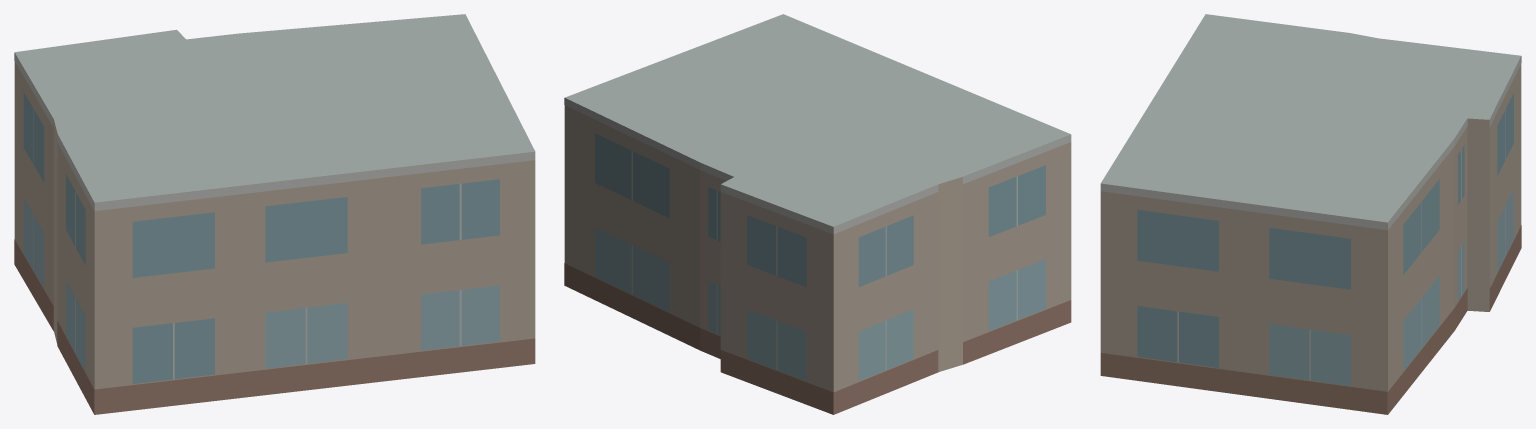
The model's file is survey-upis-32643353.glb.
3 renders of one model, left to right at view 1: azimuth 30°, elevation 25°; view 2: azimuth 150°, elevation 25°; view 3: azimuth 270°, elevation 25°, orthographic. The views are drawn at different scales.
Parts seen in each view (by area): view 1: survey-upis-32643353.tmp; view 2: survey-upis-32643353.tmp; view 3: survey-upis-32643353.tmp.
Boxes of the visible parts, x1,y1,x2,y2 form: survey-upis-32643353.tmp: (14,14,535,414); survey-upis-32643353.tmp: (564,14,1071,414); survey-upis-32643353.tmp: (1100,14,1521,414).
Bounding box in the file's own units: 14.2 × 6.1 × 12.11.
